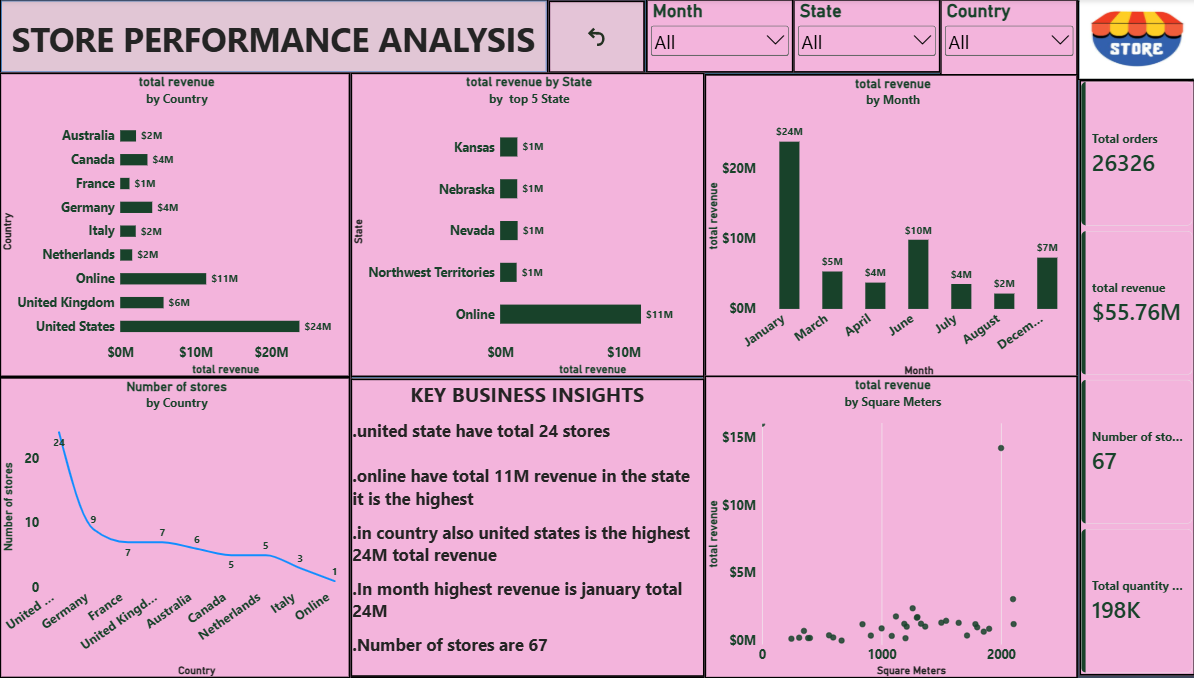

Layout of this report page (visuals, bound fields, positions):
{"tool":"powerbi","page":{"name":"stores","canvas":[1920,1080],"ordinal":3},"visuals":[{"type":"shape","box":[1722.6,2.4,183.7,126.5],"z":0},{"type":"cardVisual","fields":{"Data":["Customers.Total orders","Customers.total revenue","Stores.Number of stores","Products.Total quantity sold"]},"box":[1725,128.8,183.7,947.2],"z":1000},{"type":"image","box":[1725,0,183.7,126.5],"z":2000},{"type":"shape","box":[565.5,598.9,563.1,482],"z":3000},{"type":"shape","box":[7.2,0,873.3,119.6],"z":4000},{"type":"textbox","box":[26.2,26.2,854.2,93.1],"z":5000},{"type":"slicer","fields":{"Values":["Stores.Country"]},"box":[1503.1,0,219.5,126.5],"z":6000},{"type":"slicer","fields":{"Values":["Stores.State"]},"box":[1269.3,0,234.5,117.2],"z":7000},{"type":"slicer","fields":{"Values":["Stores.Open Date.Variation.Date Hierarchy.Month"]},"box":[1035.5,0,234.5,117.2],"z":8000},{"type":"actionButton","box":[881.1,2.9,153.1,115.5],"z":9000},{"type":"barChart","fields":{"Category":["Stores.Country"],"Y":["Customers.total revenue"]},"box":[7.2,116.9,558.3,484.3],"z":10000},{"type":"clusteredBarChart","fields":{"Category":["Stores.State"],"Y":["Customers.total revenue"]},"box":[565.5,116.9,563.1,484.3],"z":11000},{"type":"columnChart","fields":{"Category":["Stores.Open Date.Variation.Date Hierarchy.Month"],"Y":["Customers.total revenue"]},"box":[1128.5,119.3,594.1,484.3],"z":12000},{"type":"scatterChart","fields":{"X":["Stores.Square Meters"],"Y":["Customers.total revenue"]},"box":[1128.5,598.9,594.1,482],"z":13000},{"type":"lineChart","fields":{"Category":["Stores.Country"],"Y":["Stores.Number of stores"]},"box":[7.2,601.3,558.3,479.6],"z":14000},{"type":"textbox","box":[100,100,300,300],"z":15000},{"type":"textbox","box":[565.5,603.6,563.1,474.8],"z":16000}]}

Visuals, with their boxes in screenshot pixels (x1, y1, x2, y2), scaled from the page's 1920x1080 canvas onto the 1194x678 screenshot:
shape: rect(1071, 2, 1185, 81)
cardVisual - Customers.Total orders x Customers.total revenue: rect(1073, 81, 1187, 675)
image: rect(1073, 0, 1187, 79)
shape: rect(352, 376, 702, 677)
shape: rect(4, 0, 548, 75)
textbox: rect(16, 16, 547, 75)
slicer - Stores.Country: rect(935, 0, 1071, 79)
slicer - Stores.State: rect(789, 0, 935, 74)
slicer - Stores.Open Date.Variation.Date Hierarchy.Month: rect(644, 0, 790, 74)
actionButton: rect(548, 2, 643, 74)
barChart - Stores.Country x Customers.total revenue: rect(4, 73, 352, 377)
clusteredBarChart - Stores.State x Customers.total revenue: rect(352, 73, 702, 377)
columnChart - Stores.Open Date.Variation.Date Hierarchy.Month x Customers.total revenue: rect(702, 75, 1071, 379)
scatterChart - Stores.Square Meters x Customers.total revenue: rect(702, 376, 1071, 677)
lineChart - Stores.Country x Stores.Number of stores: rect(4, 377, 352, 677)
textbox: rect(62, 63, 249, 251)
textbox: rect(352, 379, 702, 677)
